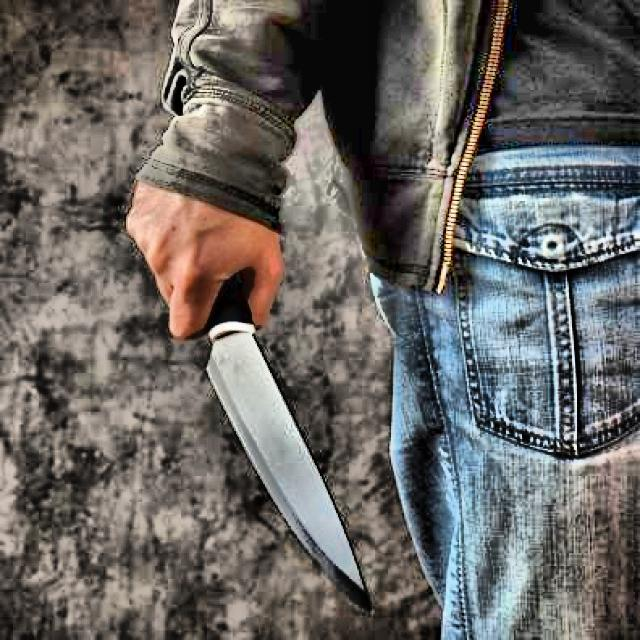knife: (206, 280, 374, 613)
